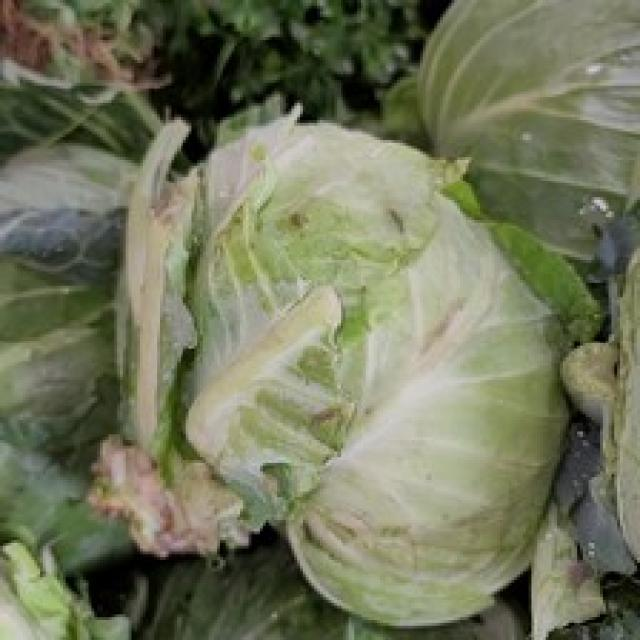Cabbage: (128, 105, 574, 621)
